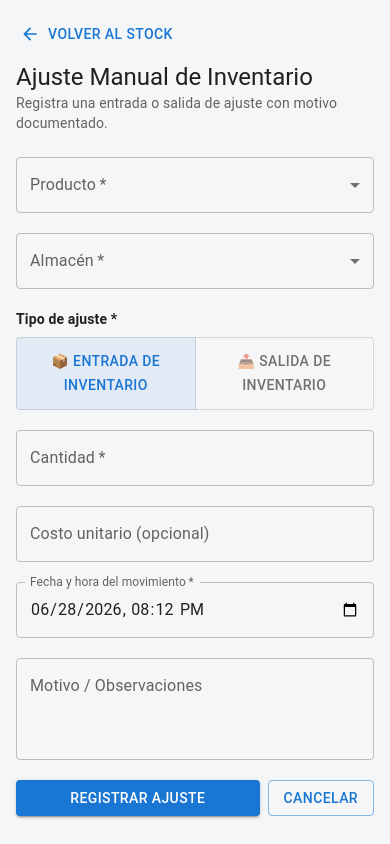
Test: AjusteInventarioPage › lists products in the dropdown
The width and height of the screenshot is (390, 844).
Note: Las opciones del MUI Select se renderizan en un portal sólo al abrirlo.
Click the dropdown named "producto" next to "Producto": (195, 184) [16,156,374,212]
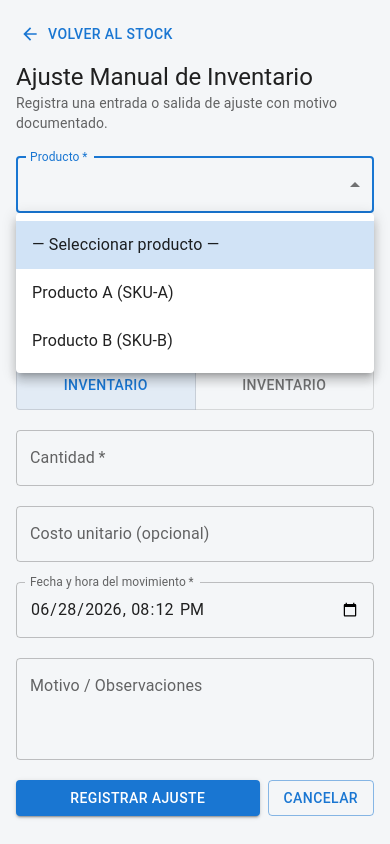
Expected: the option "Producto A (SKU-A)" is shown, [32,283,174,302]
Expected: the option "Producto B (SKU-B)" is shown, [32,331,173,350]
